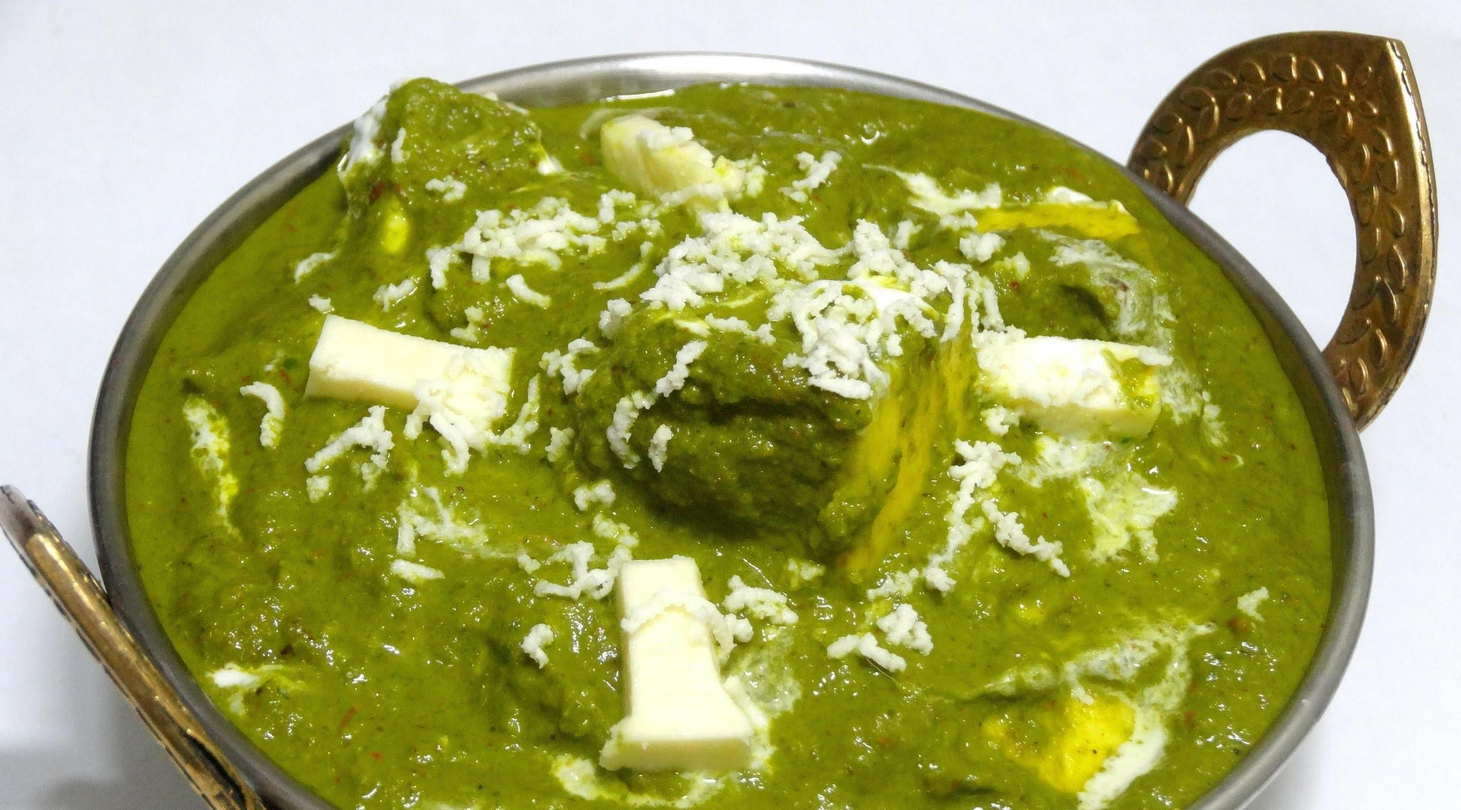PalakPaneer: (132, 70, 1338, 810)
